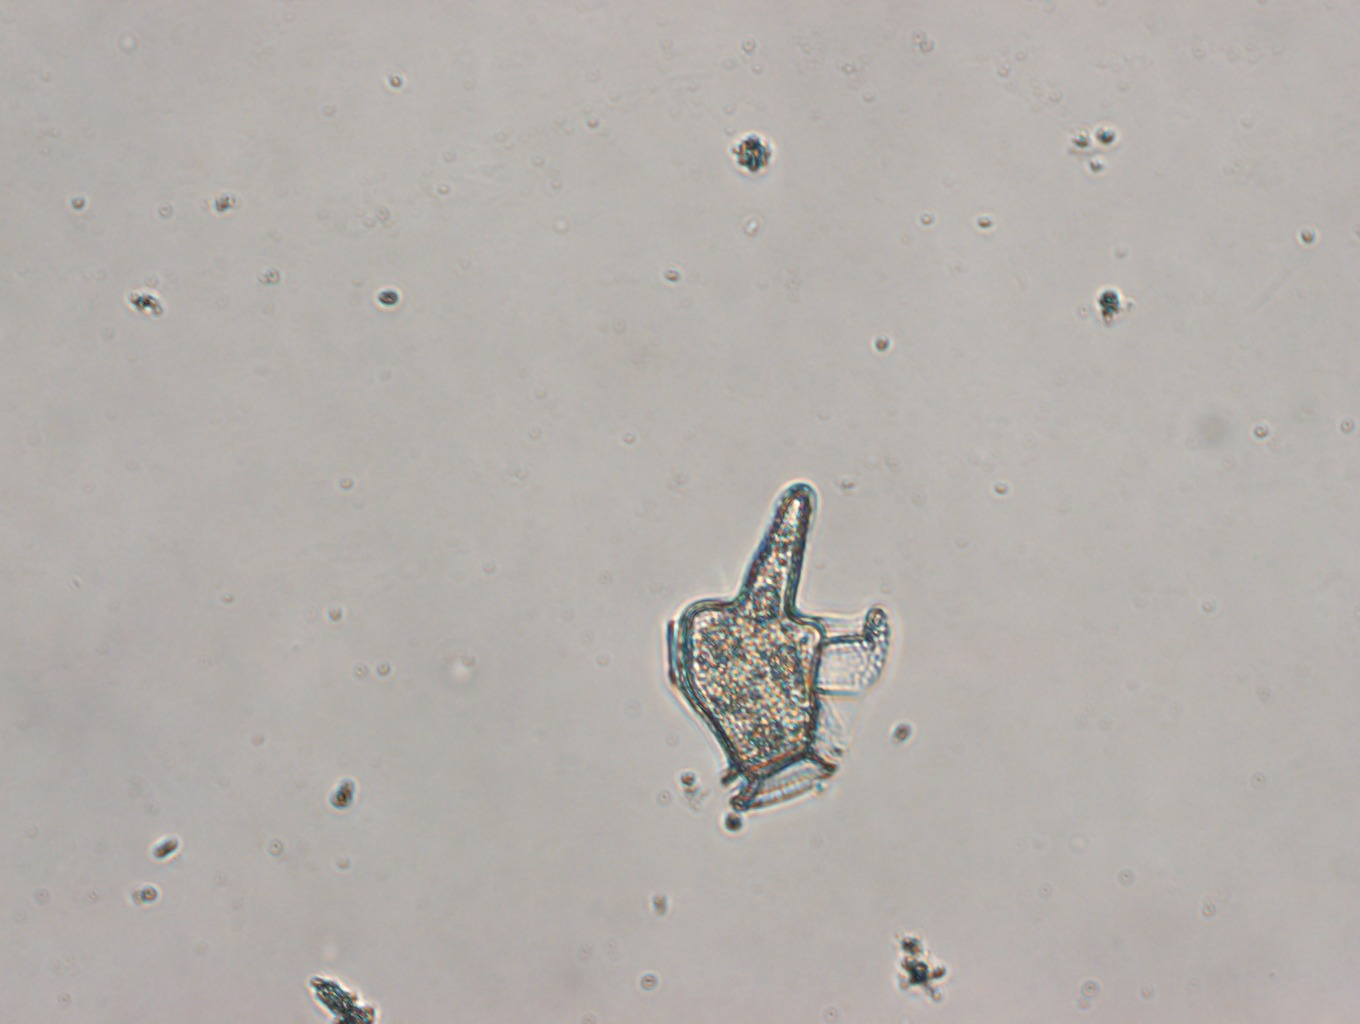dinophysis caudata: (660, 474, 893, 819)
